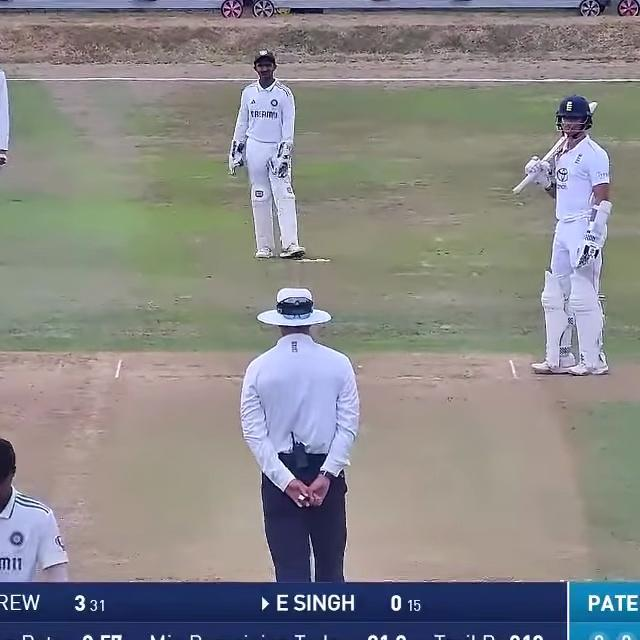umpire: (228, 276, 370, 584)
